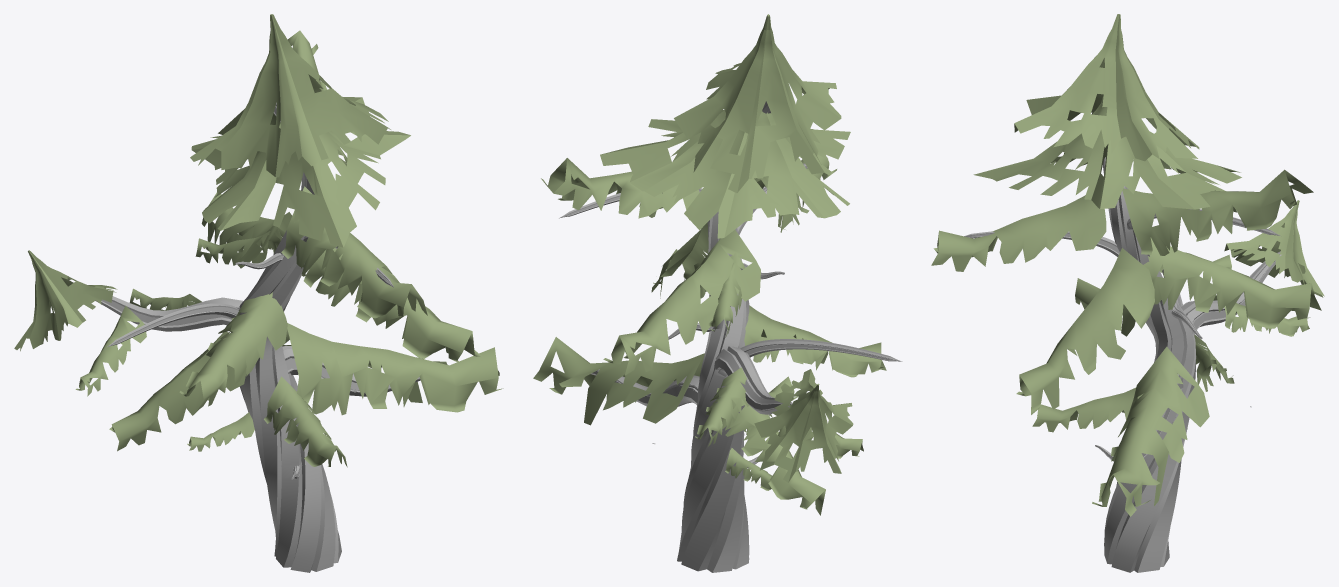
File: treeplusone.fbx
3 views of the same model, side by side, from view 1: azimuth 30°, elevation 25°; view 2: azimuth 150°, elevation 25°; view 3: azimuth 270°, elevation 25° (orthographic). The views are drawn at different scales.
Visible parts, largest first — view 1: polySurface43, polySurface44; view 2: polySurface43, polySurface44; view 3: polySurface43, polySurface44.
Boxes of the visible parts, x1=… form: polySurface43: x1=14, y1=14, x2=503, y2=467; polySurface44: x1=95, y1=102, x2=420, y2=572; polySurface43: x1=533, y1=14, x2=886, y2=515; polySurface44: x1=559, y1=101, x2=902, y2=572; polySurface43: x1=931, y1=14, x2=1324, y2=516; polySurface44: x1=964, y1=157, x2=1281, y2=572.
Bounding box in the file's own units: 1531 × 2052 × 1395.
